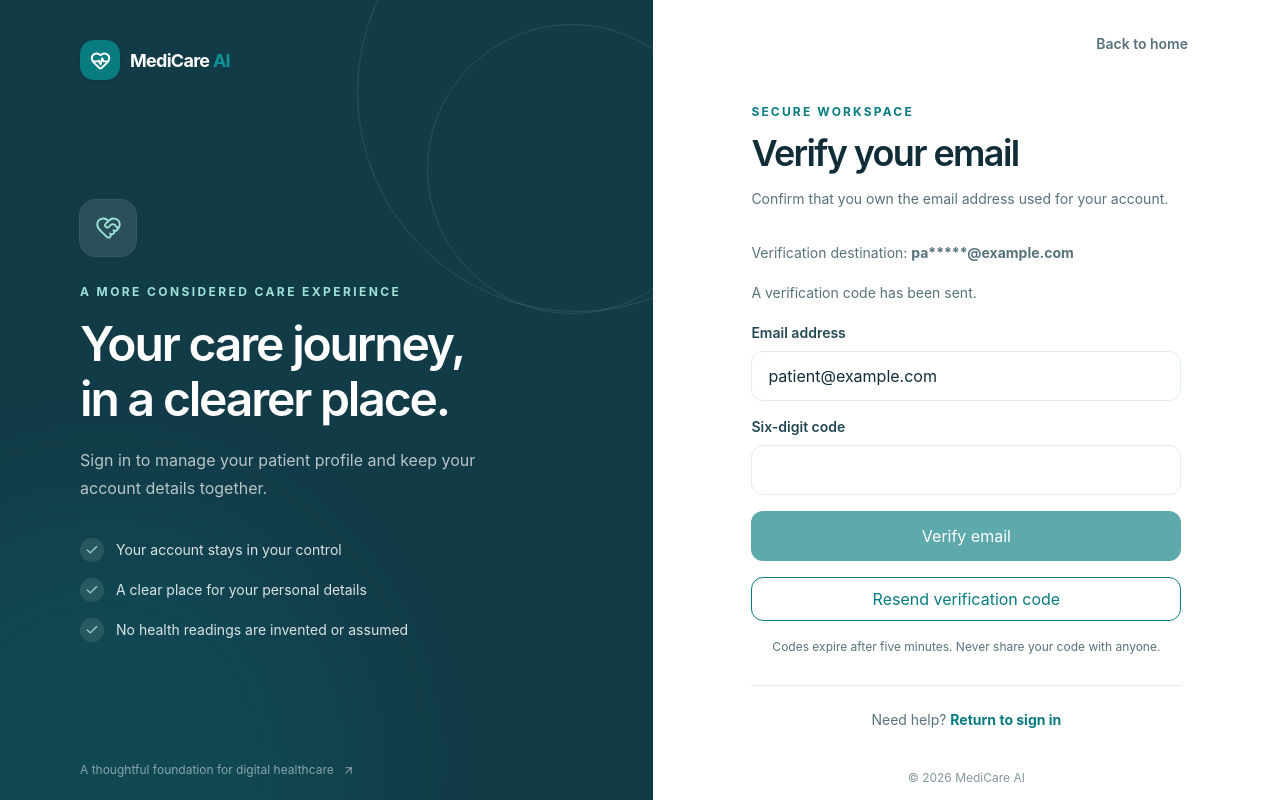
Test: email verification › resends after the cooldown and navigates to sign-in after verification
Later steps or results of the test are not shown.
Click the button "Resend verification code": (966, 599) 751,577 -> 1181,621
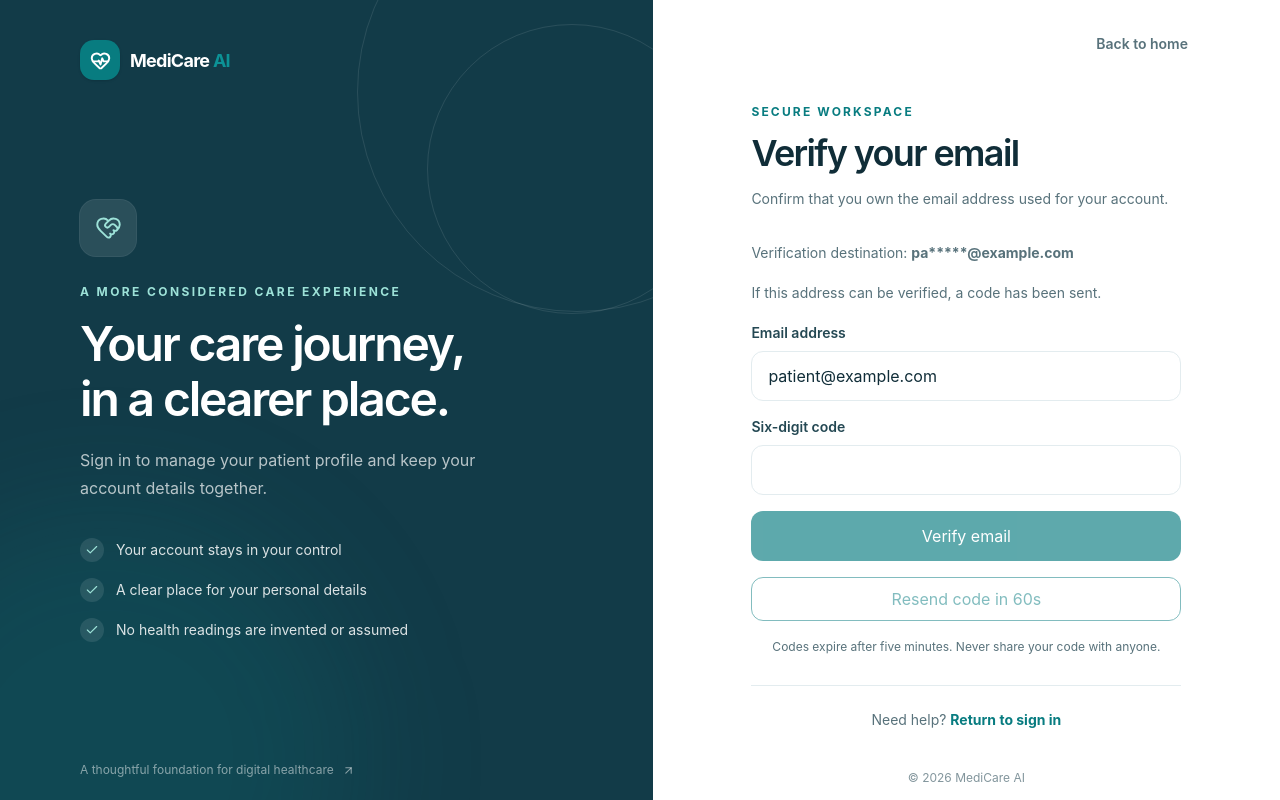
Check: the text "If this address can be verified, a code has been sent." is shown, box 751,284 -> 1101,301
In the field labelled "Six-digit code": (966, 470) 751,445 -> 1181,495, type "123456"
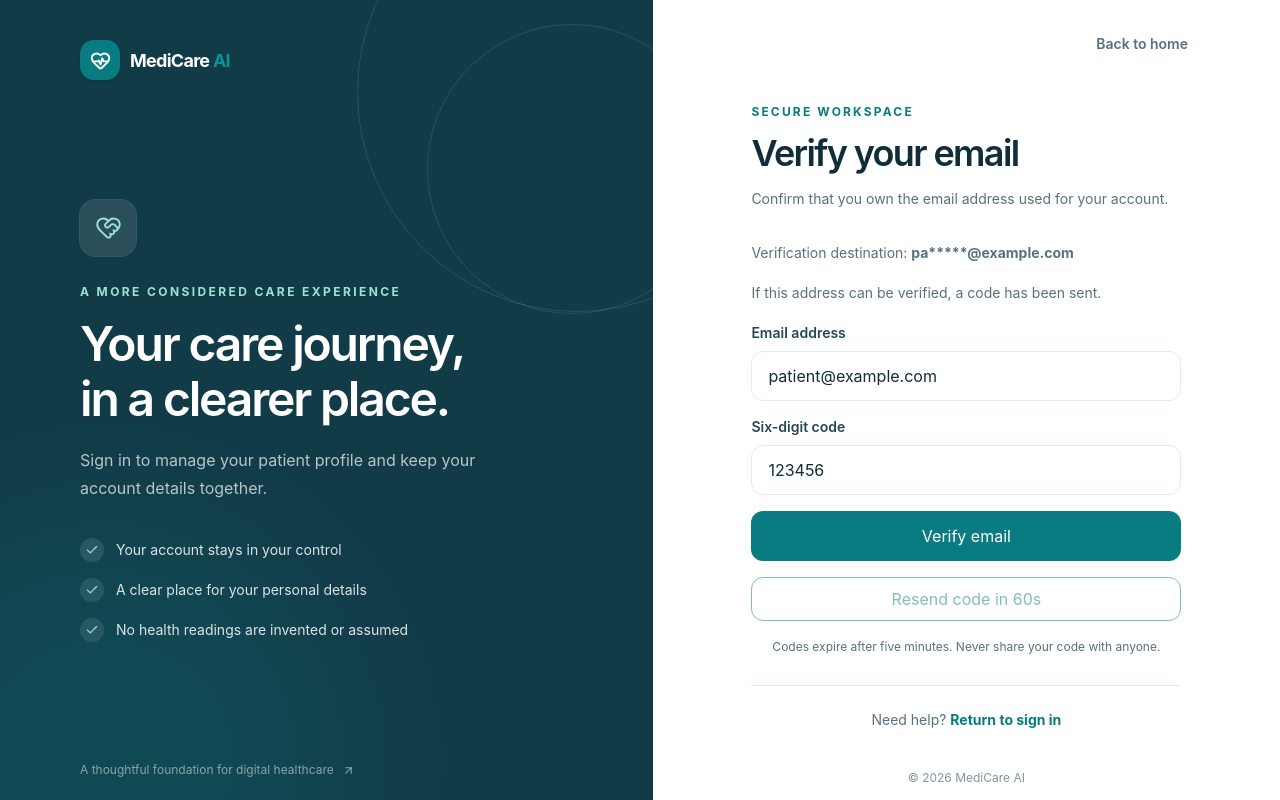
Click the button "Verify email": (966, 536) 751,511 -> 1181,561
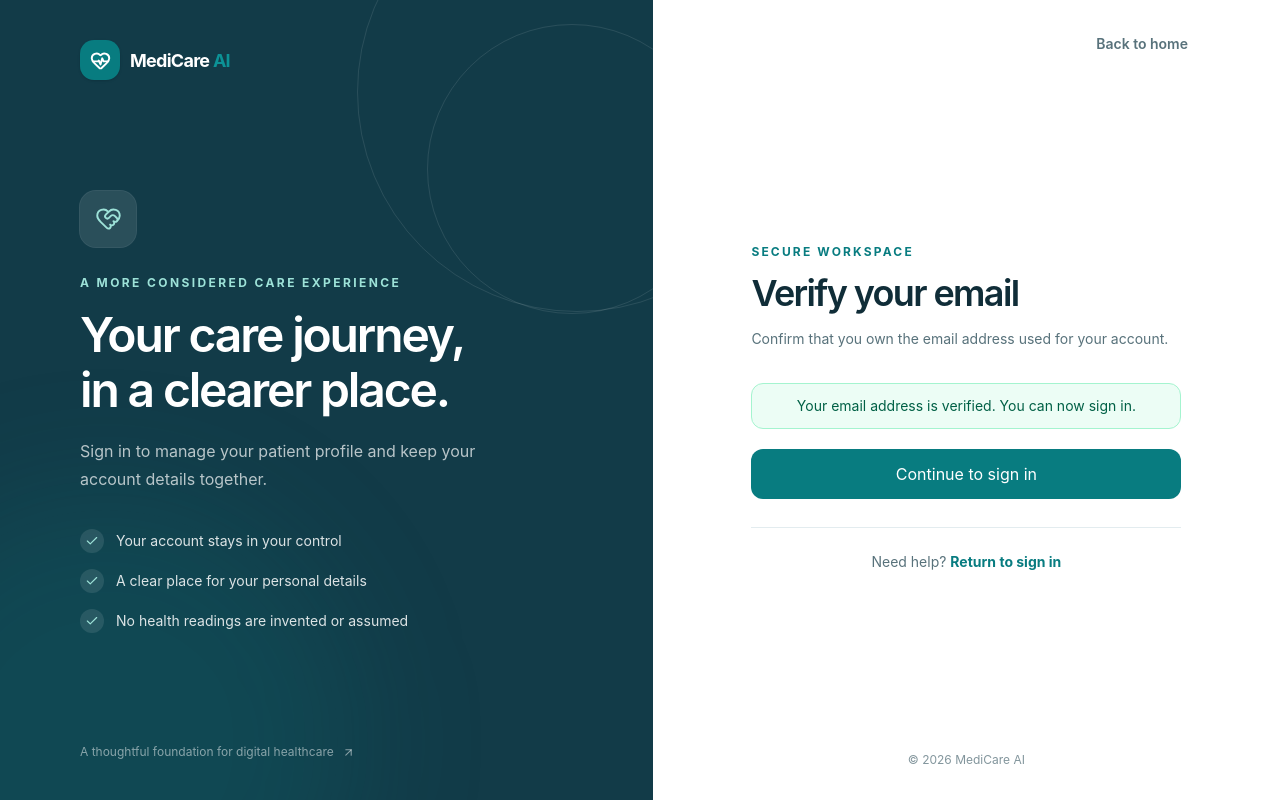
Check: the text "Your email address is verified. You can now sign in." is shown, box 751,383 -> 1181,429
Click the button "Continue to sign in": (966, 474) 751,449 -> 1181,499
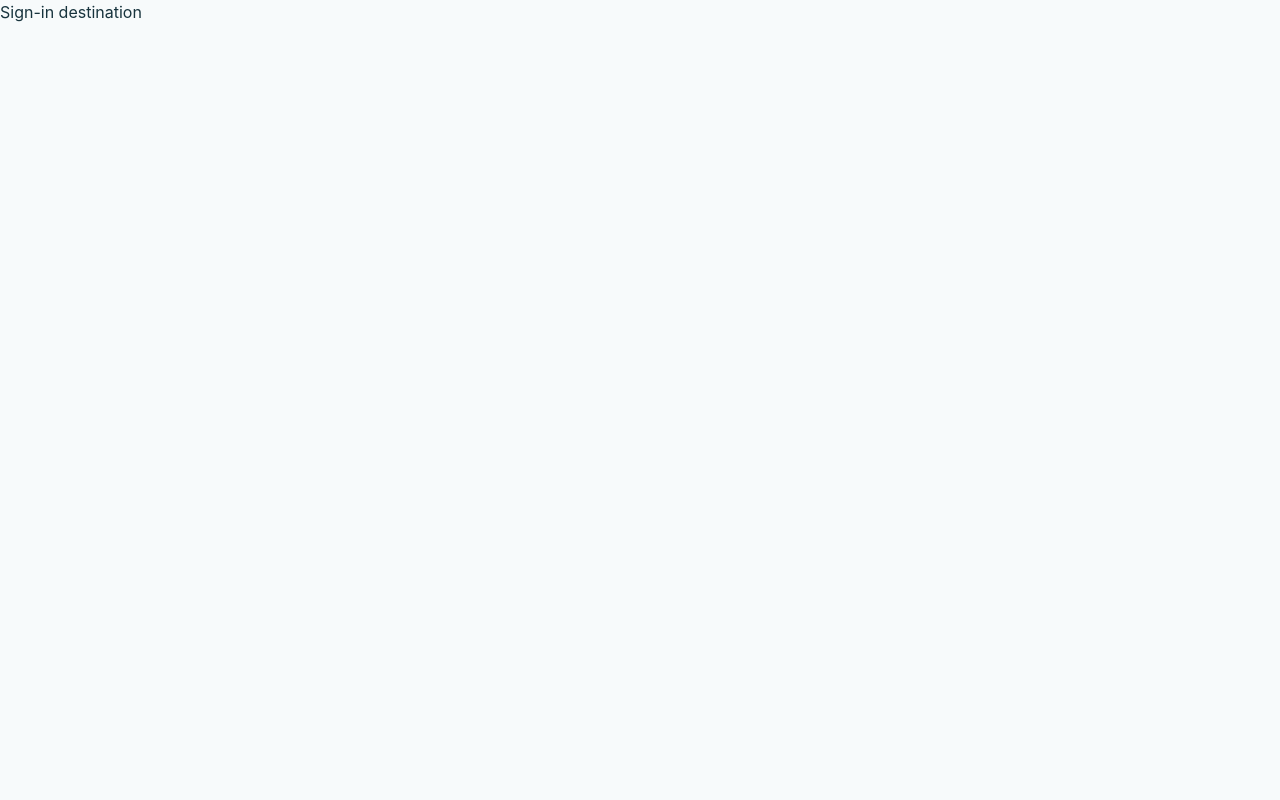
Check: the text "Sign-in destination" is shown, box 0,2 -> 142,22
